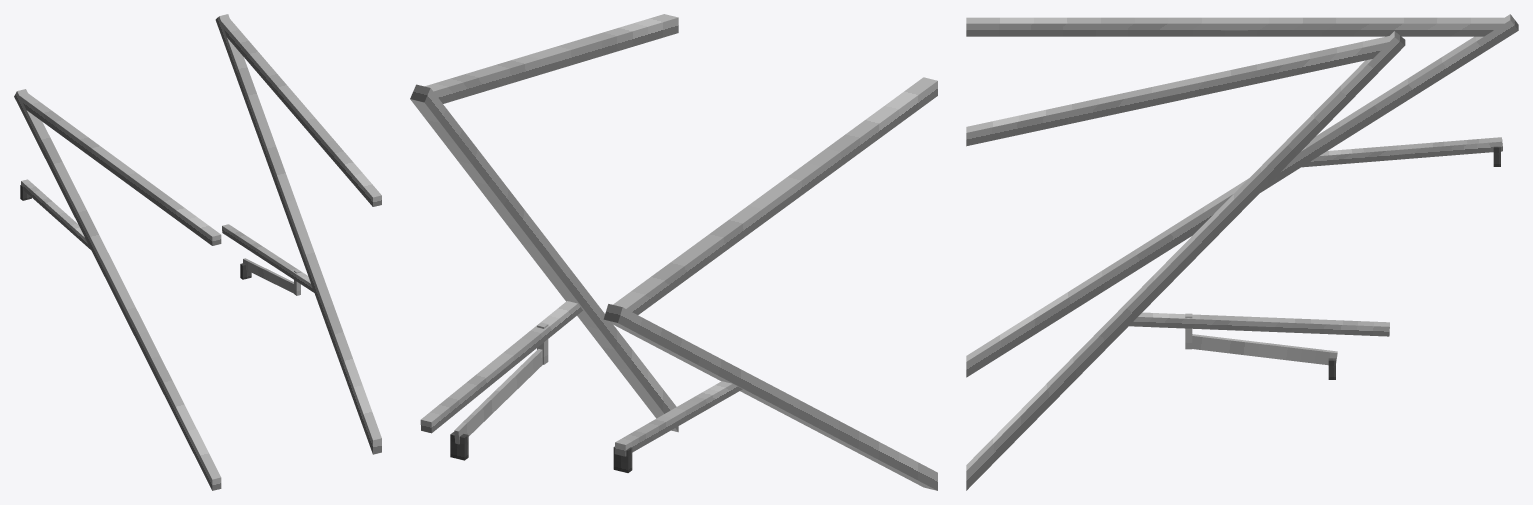
The model's file is cantilever_inner_5px.obj.
3 views of the same model, side by side, from view 1: azimuth 30°, elevation 25°; view 2: azimuth 150°, elevation 25°; view 3: azimuth 270°, elevation 25° (orthographic). The views are drawn at different scales.
Visible parts, largest first — view 1: 3be1ff33-3e23-41ca-81d9-e264d696eb1e, dadc9fa1-ea56-433f-8824-510d9e3fa3b1, e29a7b95-f8f4-4e9b-a077-7adbb4b6207f, 120fd289-f854-460b-bf88-26286d3102b1, dcbd3af4-c97f-4529-ab2e-0190fbeebdd0, c5832bf8-80c3-4687-8e7f-a927eae33579, bf2cc620-aa69-41d1-a3fc-e526b80544ea; view 2: 3be1ff33-3e23-41ca-81d9-e264d696eb1e, e29a7b95-f8f4-4e9b-a077-7adbb4b6207f, dadc9fa1-ea56-433f-8824-510d9e3fa3b1, 120fd289-f854-460b-bf88-26286d3102b1, dcbd3af4-c97f-4529-ab2e-0190fbeebdd0, c5832bf8-80c3-4687-8e7f-a927eae33579, bf2cc620-aa69-41d1-a3fc-e526b80544ea; view 3: 3be1ff33-3e23-41ca-81d9-e264d696eb1e, dadc9fa1-ea56-433f-8824-510d9e3fa3b1, e29a7b95-f8f4-4e9b-a077-7adbb4b6207f, 120fd289-f854-460b-bf88-26286d3102b1, dcbd3af4-c97f-4529-ab2e-0190fbeebdd0, c5832bf8-80c3-4687-8e7f-a927eae33579, bf2cc620-aa69-41d1-a3fc-e526b80544ea.
Boxes of the visible parts, x1,y1,x2,y2 form: 3be1ff33-3e23-41ca-81d9-e264d696eb1e: [215, 14, 381, 454]; dadc9fa1-ea56-433f-8824-510d9e3fa3b1: [14, 89, 221, 490]; e29a7b95-f8f4-4e9b-a077-7adbb4b6207f: [19, 93, 221, 245]; 120fd289-f854-460b-bf88-26286d3102b1: [221, 19, 381, 206]; dcbd3af4-c97f-4529-ab2e-0190fbeebdd0: [222, 224, 314, 292]; c5832bf8-80c3-4687-8e7f-a927eae33579: [21, 179, 90, 249]; bf2cc620-aa69-41d1-a3fc-e526b80544ea: [243, 258, 293, 293]; 3be1ff33-3e23-41ca-81d9-e264d696eb1e: [410, 84, 678, 432]; e29a7b95-f8f4-4e9b-a077-7adbb4b6207f: [613, 77, 937, 314]; dadc9fa1-ea56-433f-8824-510d9e3fa3b1: [603, 304, 937, 490]; 120fd289-f854-460b-bf88-26286d3102b1: [425, 14, 678, 103]; dcbd3af4-c97f-4529-ab2e-0190fbeebdd0: [420, 301, 582, 433]; c5832bf8-80c3-4687-8e7f-a927eae33579: [614, 381, 742, 456]; bf2cc620-aa69-41d1-a3fc-e526b80544ea: [454, 349, 542, 444]; 3be1ff33-3e23-41ca-81d9-e264d696eb1e: [966, 31, 1405, 490]; dadc9fa1-ea56-433f-8824-510d9e3fa3b1: [966, 14, 1518, 377]; e29a7b95-f8f4-4e9b-a077-7adbb4b6207f: [966, 17, 1504, 36]; 120fd289-f854-460b-bf88-26286d3102b1: [966, 36, 1389, 146]; dcbd3af4-c97f-4529-ab2e-0190fbeebdd0: [1129, 312, 1389, 336]; c5832bf8-80c3-4687-8e7f-a927eae33579: [1302, 137, 1502, 167]; bf2cc620-aa69-41d1-a3fc-e526b80544ea: [1192, 334, 1337, 365].
Size of the model in its own units: 1.19 by 2.18 by 2.41.
